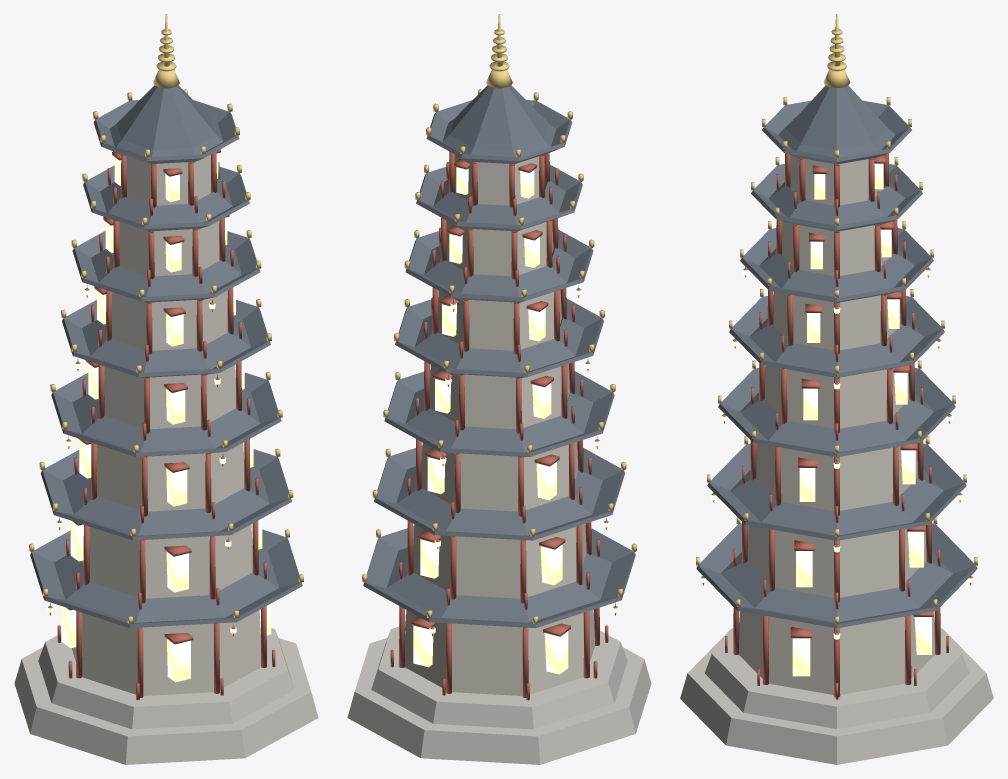
File: tianwang-pagoda.glb
3 renders of one model, left to right at view 1: azimuth 30°, elevation 25°; view 2: azimuth 150°, elevation 25°; view 3: azimuth 270°, elevation 25°, orthographic.
Visible parts, largest first — view 1: pag_tile, pag_brick, pag_stone, pag_wood, pag_glow, pag_gold; view 2: pag_tile, pag_brick, pag_stone, pag_wood, pag_glow, pag_gold; view 3: pag_tile, pag_brick, pag_stone, pag_wood, pag_glow, pag_gold.
Part boxes in pixels (bbox=[...]): pag_tile: bbox=[30, 85, 302, 628]; pag_brick: bbox=[71, 154, 260, 695]; pag_stone: bbox=[14, 628, 318, 764]; pag_wood: bbox=[48, 149, 275, 700]; pag_glow: bbox=[47, 153, 271, 682]; pag_gold: bbox=[29, 14, 303, 624]; pag_tile: bbox=[363, 85, 635, 628]; pag_brick: bbox=[405, 154, 594, 695]; pag_stone: bbox=[347, 624, 651, 764]; pag_wood: bbox=[390, 151, 617, 700]; pag_glow: bbox=[413, 167, 618, 674]; pag_gold: bbox=[362, 14, 636, 624]; pag_tile: bbox=[696, 85, 977, 628]; pag_brick: bbox=[738, 155, 935, 694]; pag_stone: bbox=[680, 628, 993, 764]; pag_wood: bbox=[701, 153, 972, 699]; pag_glow: bbox=[700, 163, 973, 676]; pag_gold: bbox=[696, 14, 977, 624].
Bounding box in the file's own units: 16.8 × 40.41 × 16.8.
